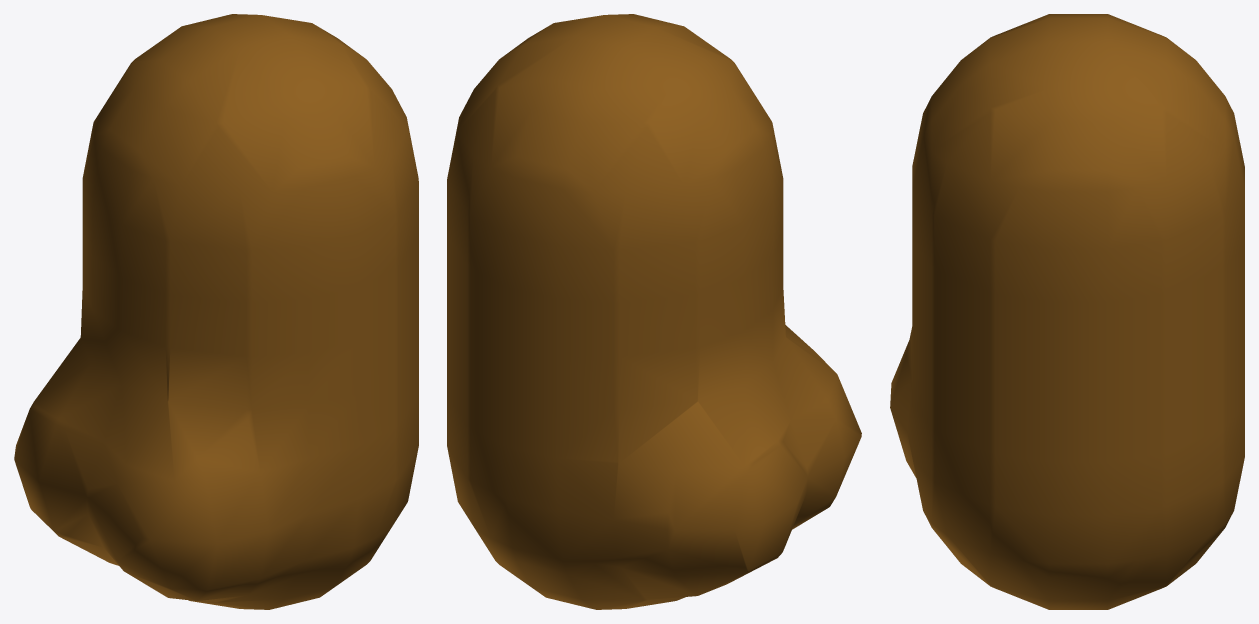
Rendered from Blender bean.fbx.
3 renders of one model, left to right at view 1: azimuth 30°, elevation 25°; view 2: azimuth 150°, elevation 25°; view 3: azimuth 270°, elevation 25°, orthographic.
Visible parts, largest first — view 1: Mball; view 2: Mball; view 3: Mball.
Boxes of the visible parts, x1,y1,x2,y2 form: Mball: [14, 14, 418, 609]; Mball: [447, 14, 861, 609]; Mball: [890, 14, 1244, 609].
Bounding box in the file's own units: 269 × 423 × 242.
